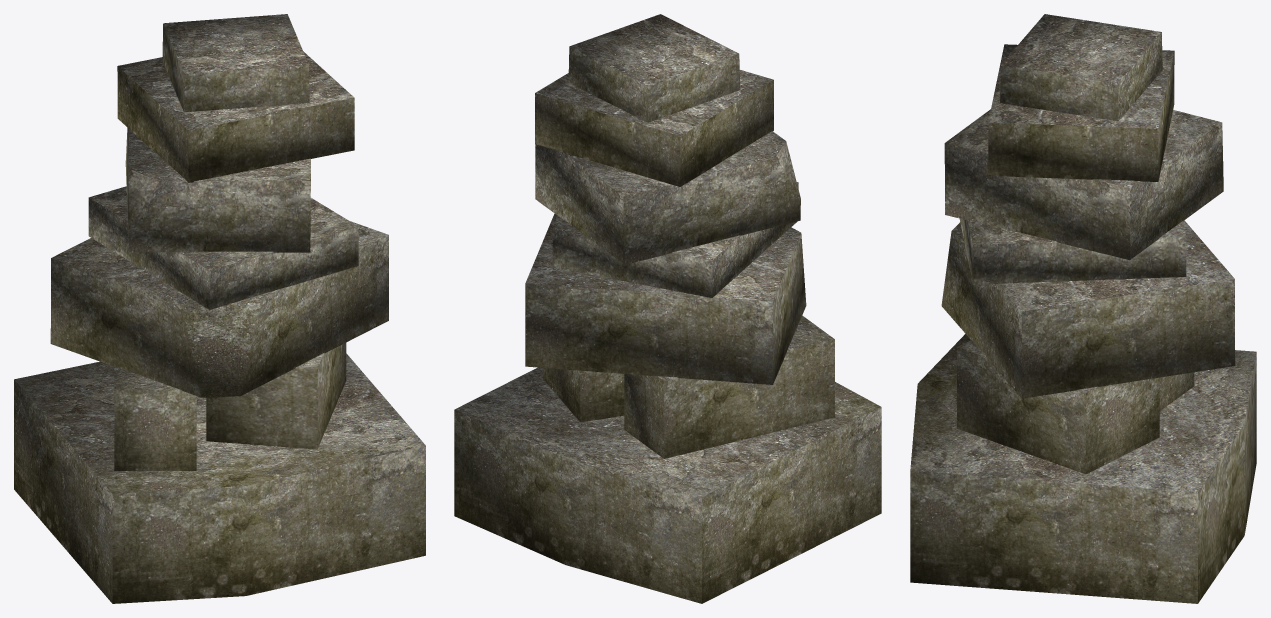
File: supportStones_01_LOD1.FBX
The picture shows the model from 3 angles, left to right: view 1: azimuth 30°, elevation 25°; view 2: azimuth 150°, elevation 25°; view 3: azimuth 270°, elevation 25°; orthographic projection. The views are drawn at different scales.
Visible parts, largest first — view 1: supportStones_01_LOD1; view 2: supportStones_01_LOD1; view 3: supportStones_01_LOD1.
Boxes of the visible parts, x1,y1,x2,y2 form: supportStones_01_LOD1: [14, 14, 425, 603]; supportStones_01_LOD1: [454, 14, 881, 603]; supportStones_01_LOD1: [910, 14, 1256, 603].
Bounding box in the file's own units: 4.02 × 5.57 × 3.63.
Materials: 1 (1 with a texture image).
